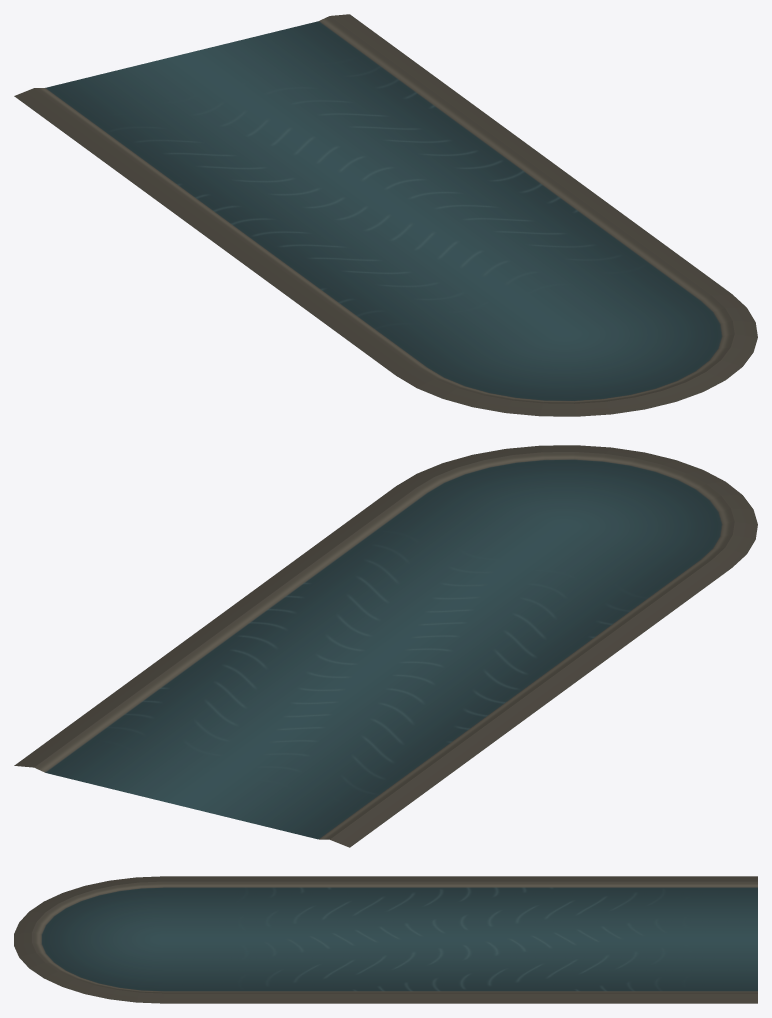
The model's file is hex_river_overlay_end.glb.
The picture shows the model from 3 angles, top to bottom: view 1: azimuth 30°, elevation 25°; view 2: azimuth 150°, elevation 25°; view 3: azimuth 270°, elevation 25°; orthographic projection. The views are drawn at different scales.
Parts seen in each view (by area): view 1: Independent painted river ribbon; view 2: Independent painted river ribbon; view 3: Independent painted river ribbon.
Boxes of the visible parts, x1,y1,x2,y2 form: Independent painted river ribbon: [14, 14, 757, 416]; Independent painted river ribbon: [14, 445, 757, 847]; Independent painted river ribbon: [14, 876, 757, 1003].
Bounding box in the file's own units: 1.12 × 0.01 × 2.77.
Materials: 1 (1 with a texture image).
